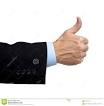thumbs_up: (2, 17, 94, 76)
